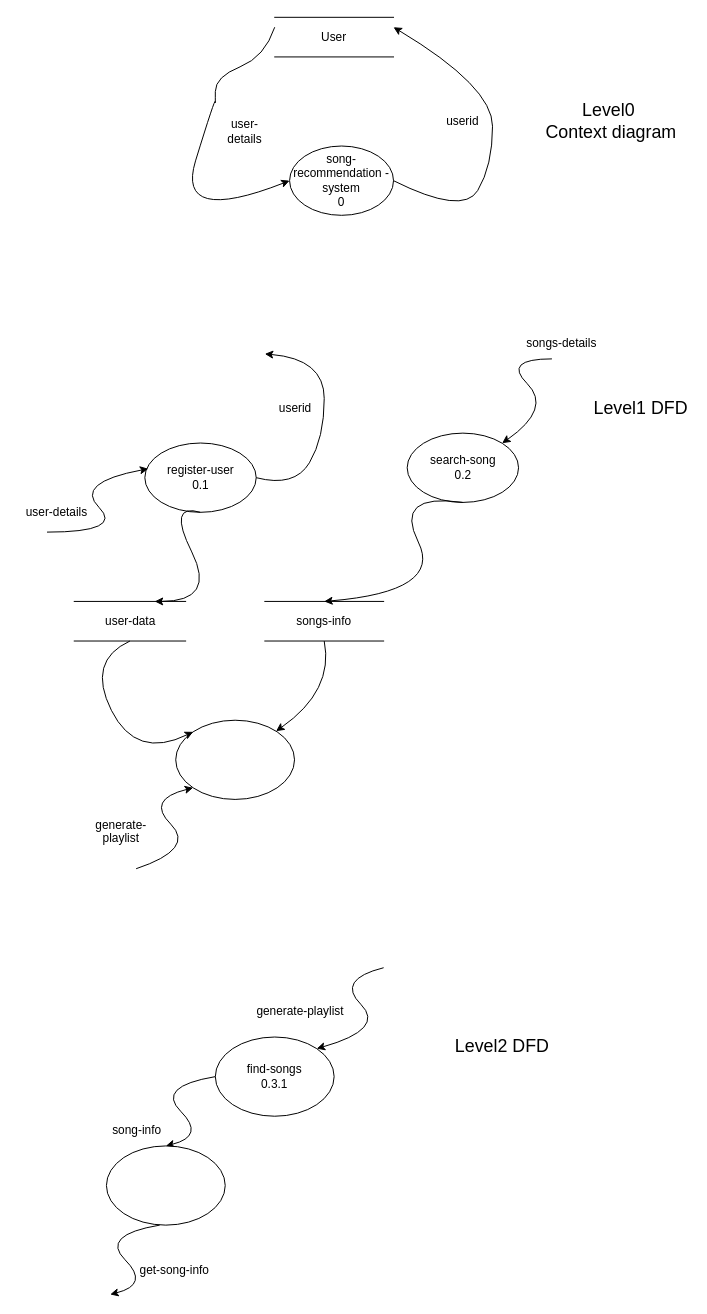
This 707x1314 diagram has some shape labels left out. Here are the shapes that lost their labels. From the top down, the centre of each, then its label:
point (235, 759): recommend-songs-playlist 0.3
point (165, 1185): validate-song-data 0.3.2
